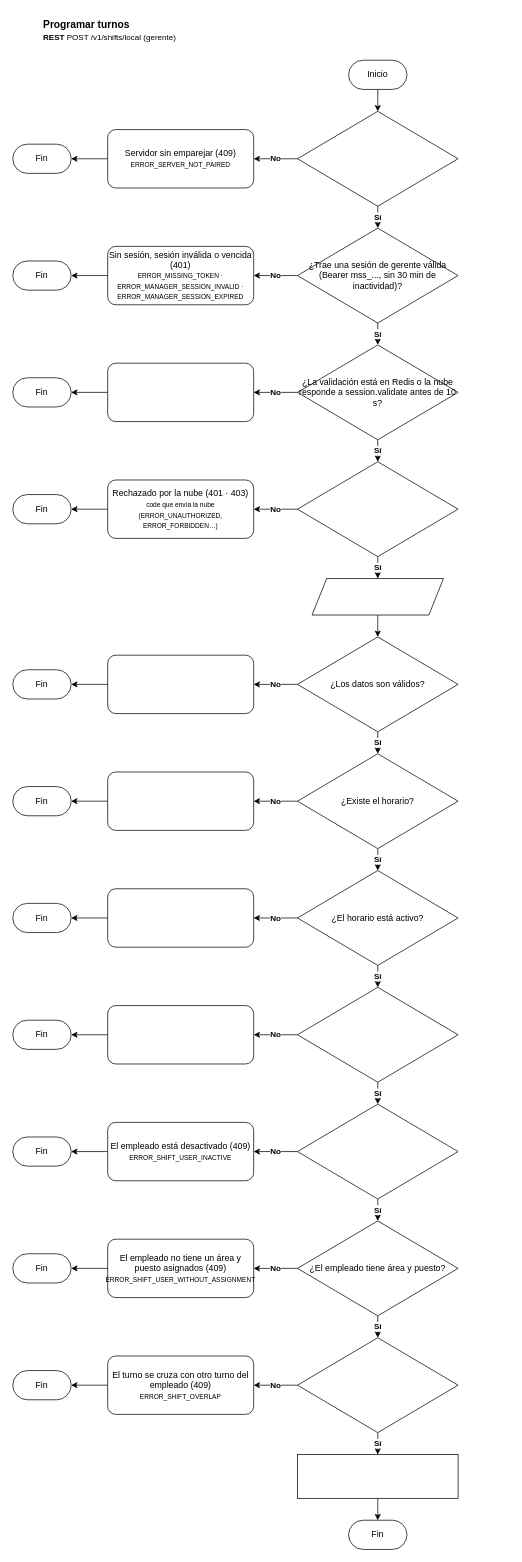
Some shapes in this 522 by 1562 pixel diagram are drawn without their labels. Here are the shapes that lost their labels. From the top down, the box of each, then its label:
(297, 111, 458, 206): ¿El servidor ya se emparejó alguna vez (pairing_status distinto de unpaired)?
(107, 362, 254, 422): La nube no responde (503) ERROR_CLOUD_UNAVAILABLE · ERROR_SERVER_UNLINKED
(297, 461, 458, 557): ¿La nube acepta la sesión del gerente con este servidor?
(311, 578, 443, 615): Recibir datos
(107, 654, 254, 714): Datos inválidos (400) ERROR_BAD_REQUEST
(107, 771, 254, 830): No se encontró el horario (404) ERROR_WORK_SCHEDULE_NOT_FOUND
(107, 888, 254, 947): El horario está desactivado (409) ERROR_SHIFT_WORK_SCHEDULE_INACTIVE
(107, 1005, 254, 1064): No se encontró al empleado (404) ERROR_SHIFT_USER_NOT_FOUND
(297, 987, 458, 1082): ¿Existe el empleado?
(297, 1103, 458, 1199): ¿El empleado está activo?
(297, 1337, 458, 1433): ¿El turno no se cruza con otro del empleado?
(297, 1454, 458, 1498): Responder 201 con el mensaje SHIFTS_CREATED
